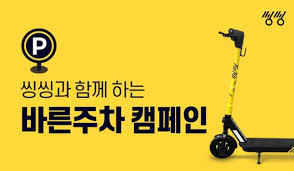kick_body: (245, 138, 294, 152)
kick_handler: (219, 28, 243, 48)
kick_neck: (227, 49, 238, 128)
kick_wheel: (211, 136, 235, 159)
